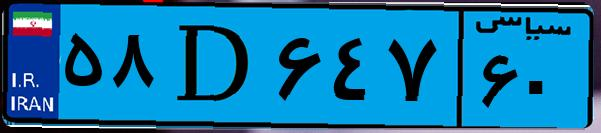0: (525, 38, 570, 115)
4: (330, 28, 385, 110)
5: (57, 26, 110, 100)
6: (270, 28, 330, 110), (475, 38, 525, 113)
7: (385, 28, 445, 110)
8: (110, 28, 158, 98)
D: (158, 12, 270, 120)
